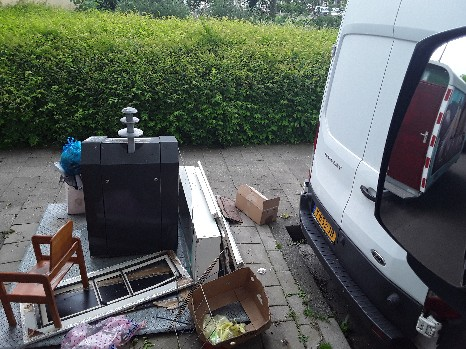Container: (95, 137, 172, 248)
Papier: (161, 281, 272, 346), (55, 147, 95, 215), (225, 170, 281, 214)
Rest: (184, 161, 239, 287), (81, 255, 176, 313), (25, 245, 82, 319)
Voertuig: (299, 0, 413, 338)
